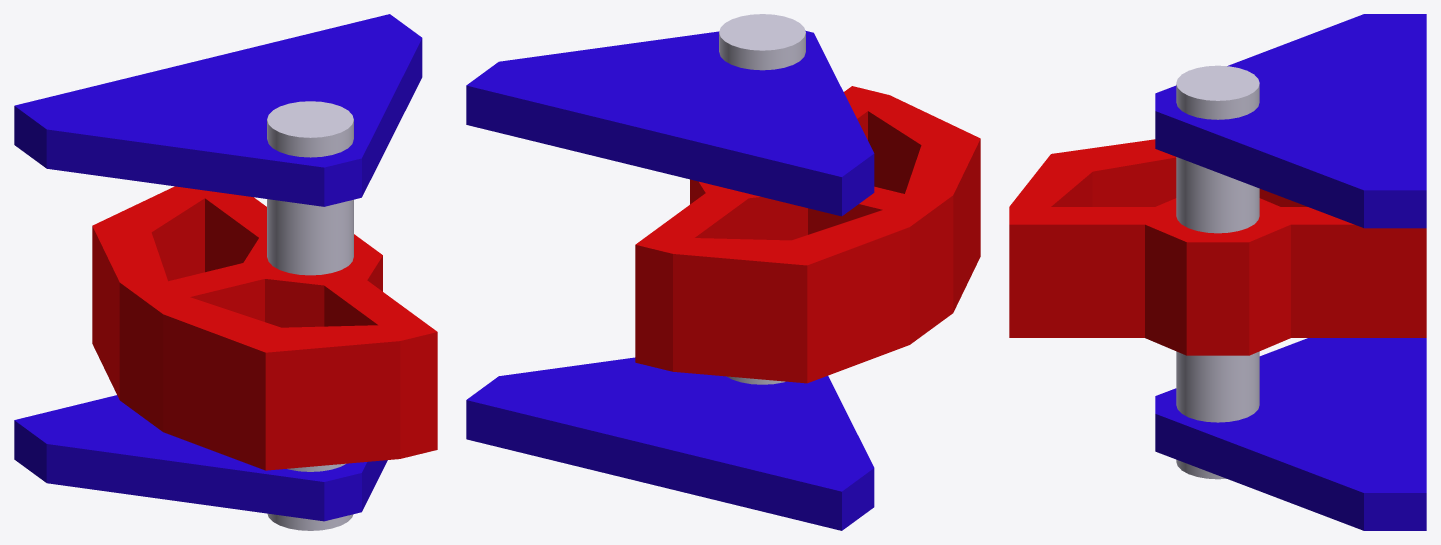
The model's file is animation.gltf.
The picture shows the model from 3 angles, left to right: view 1: azimuth 30°, elevation 25°; view 2: azimuth 150°, elevation 25°; view 3: azimuth 270°, elevation 25°; orthographic projection. The views are drawn at different scales.
Visible parts, largest first — view 1: Plane, Cube, Cube.001, Cylinder; view 2: Plane, Cube, Cube.001, Cylinder; view 3: Plane, Cube, Cube.001, Cylinder.
Part boxes in pixels (bbox=[...]): Plane: bbox=[92, 186, 437, 470]; Cube: bbox=[14, 14, 422, 206]; Cube.001: bbox=[14, 395, 387, 521]; Cylinder: bbox=[267, 101, 353, 530]; Plane: bbox=[635, 86, 980, 383]; Cube: bbox=[466, 30, 874, 216]; Cube.001: bbox=[466, 357, 874, 530]; Cylinder: bbox=[719, 14, 805, 384]; Plane: bbox=[1009, 139, 1426, 355]; Cube: bbox=[1155, 14, 1426, 228]; Cube.001: bbox=[1155, 338, 1426, 530]; Cylinder: bbox=[1176, 65, 1259, 479].
Bounding box in the file's own units: 2 × 2 × 2.
